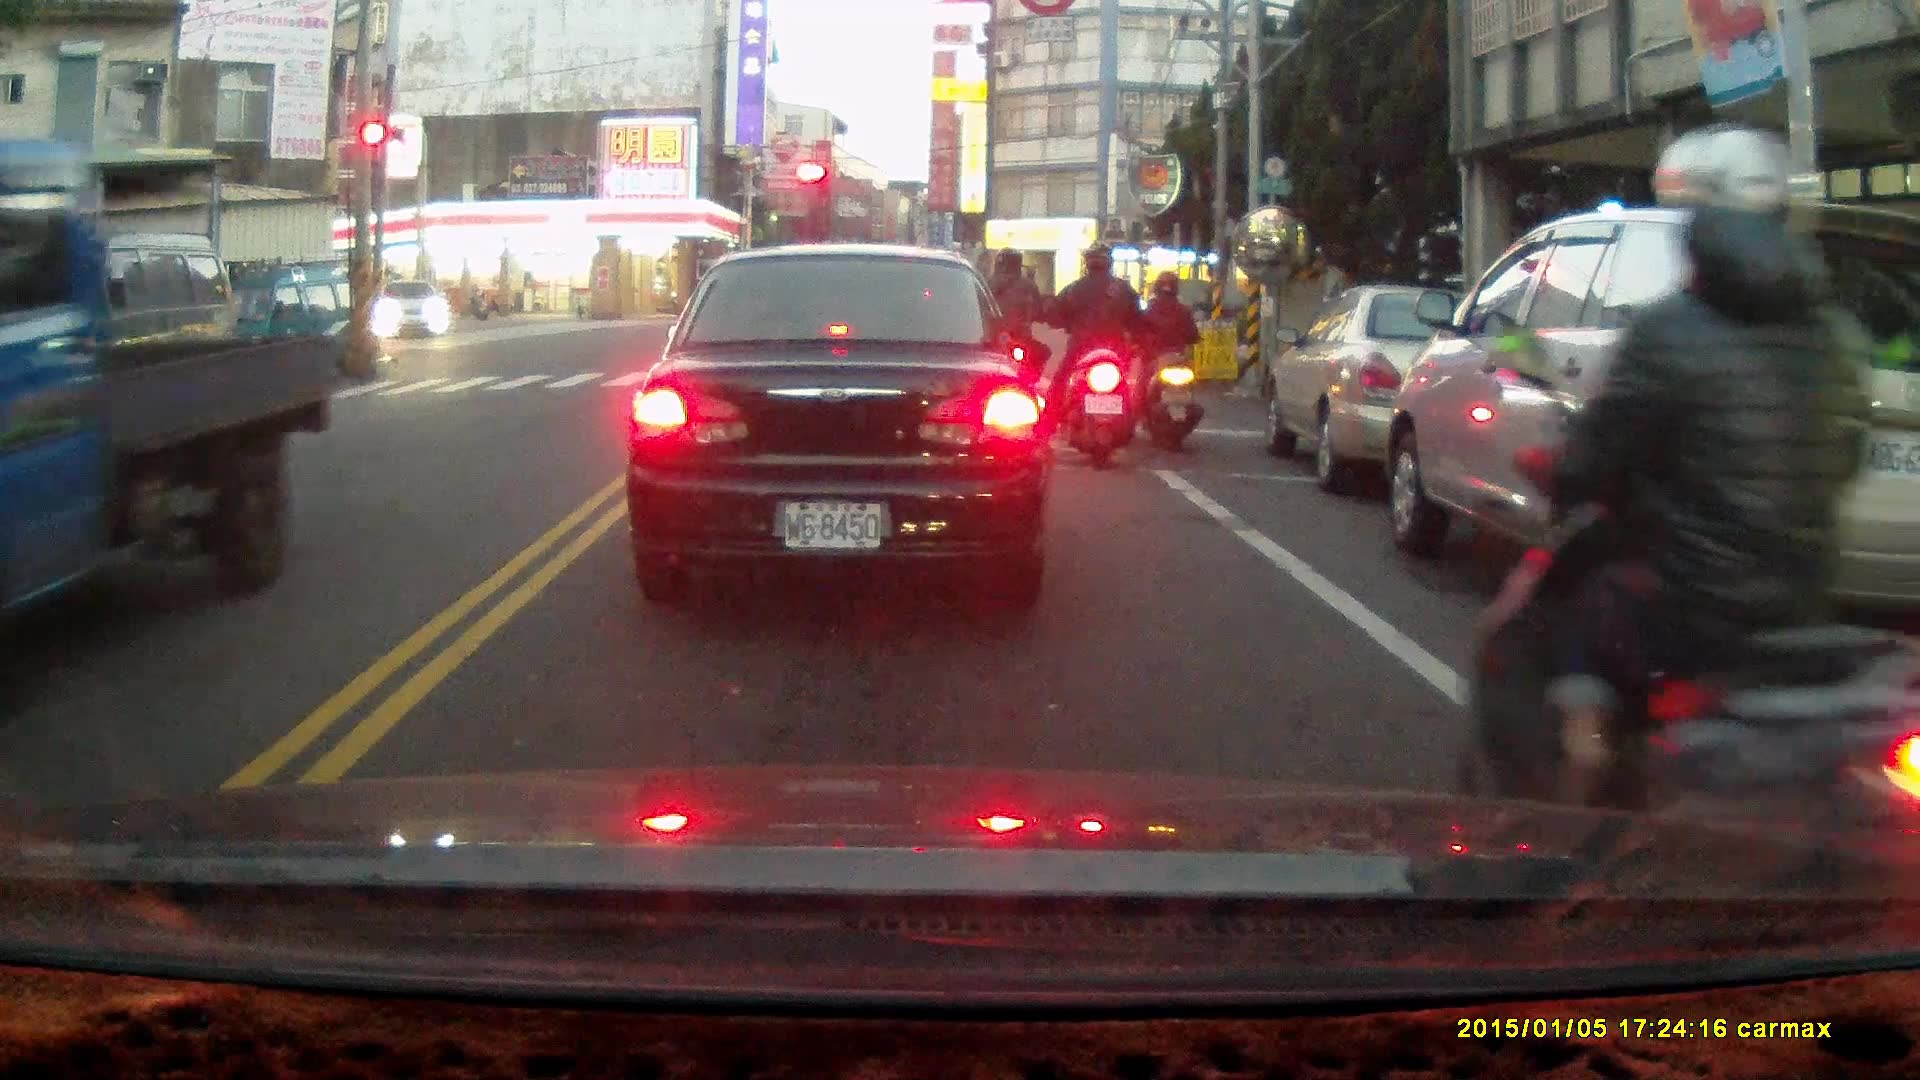rider: (1464, 123, 1920, 981), (1041, 243, 1144, 468), (964, 252, 1048, 432), (1133, 271, 1203, 451)
vehicle: (1379, 200, 1920, 683), (1, 190, 339, 677), (634, 248, 1043, 600), (1260, 288, 1578, 493), (198, 263, 386, 395), (372, 277, 451, 343)
